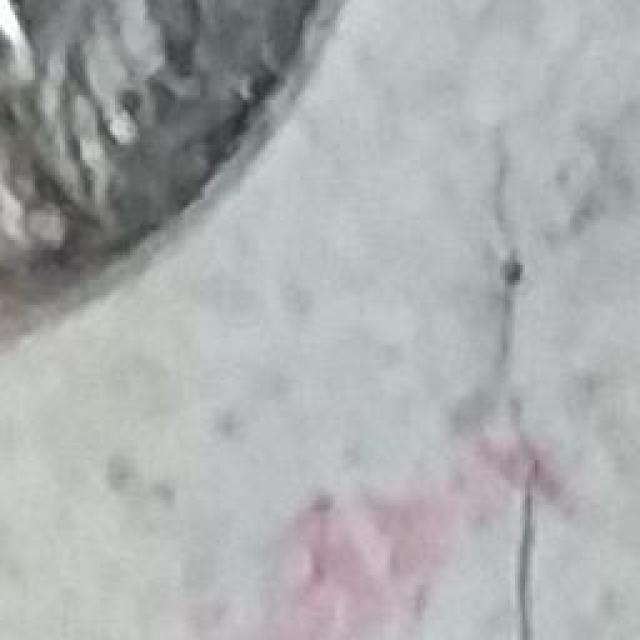Longitudinal: (475, 108, 536, 640)
